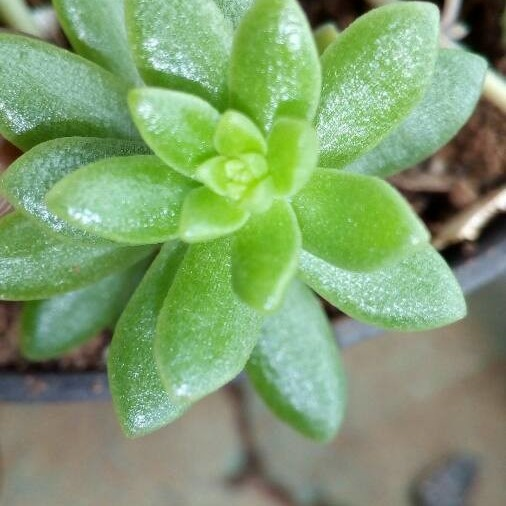obstacle: (23, 8, 480, 446)
